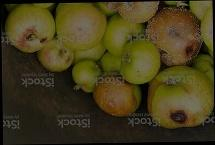rotten apple: (141, 69, 214, 131), (149, 10, 204, 69), (1, 5, 57, 55), (92, 75, 145, 117), (33, 41, 74, 74), (116, 1, 155, 24)
